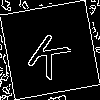K: (25, 25, 78, 81)
